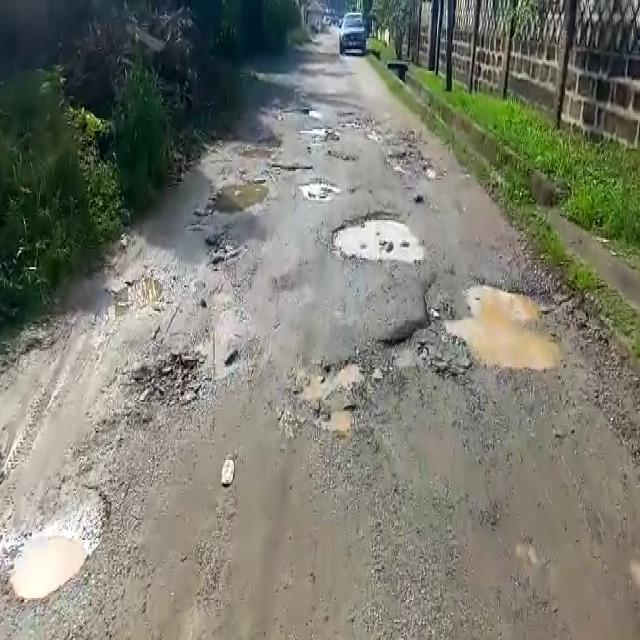pothole: (424, 278, 562, 375), (296, 351, 378, 434), (121, 348, 206, 414), (329, 210, 425, 267), (109, 273, 171, 318), (267, 160, 315, 174)
